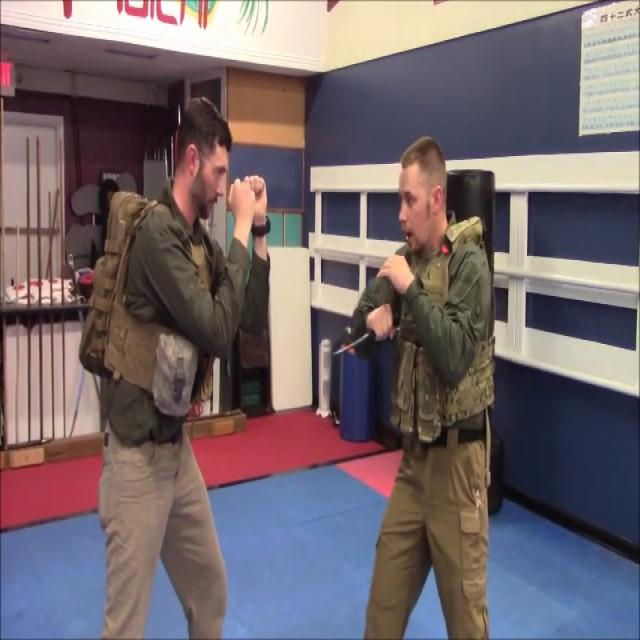knife: (330, 314, 376, 372)
